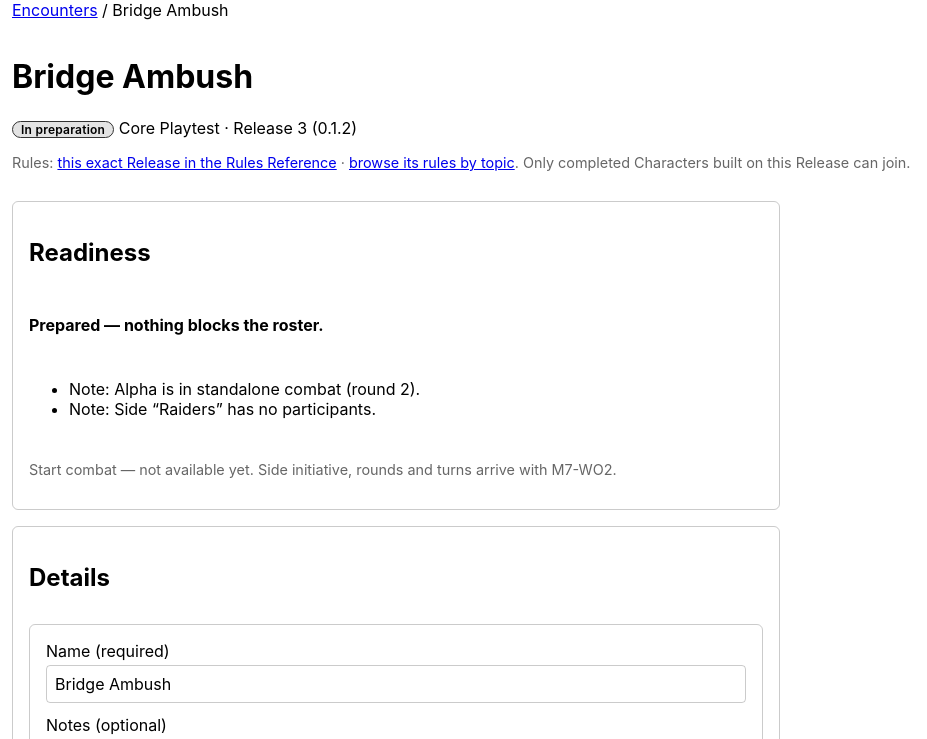
Test case: M7-WO1 encounter workspace › unsaved details are protected and saved as one UPDATE_METADATA command
expect the heading "Bridge Ambush" is shown: met, box top-left (12, 57), bottom-right (253, 96)
Replace the text in the field labelled "Name (required)" with "Bridge Ambush II" at (396,684), box top-left (46, 665), bottom-right (746, 703)
(page scrolled)
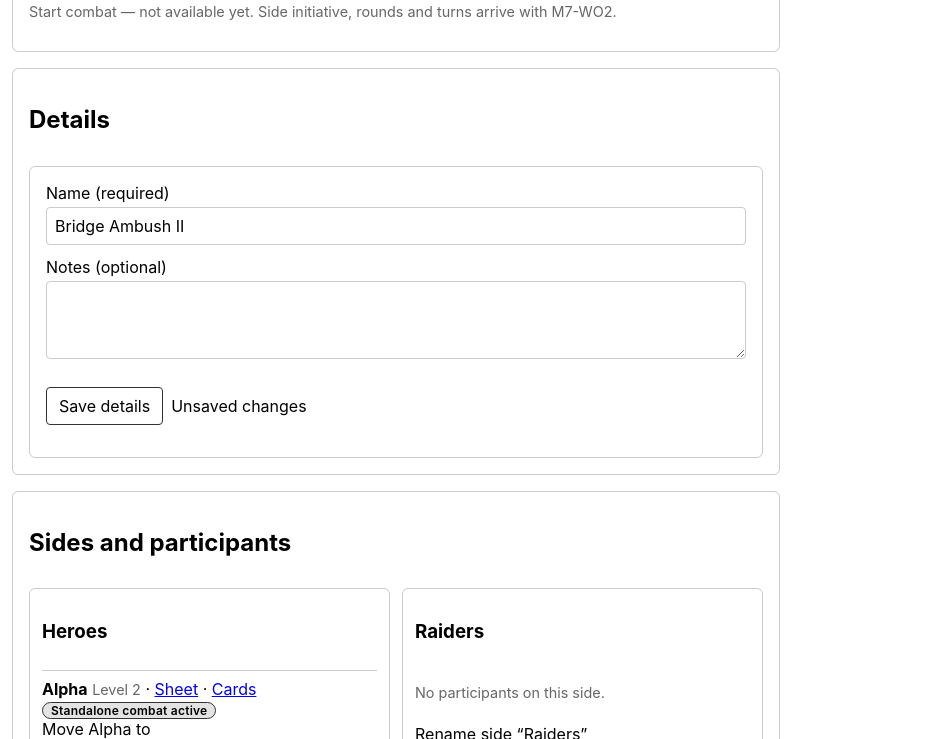
expect the text "Unsaved changes" is shown: met, box top-left (171, 396), bottom-right (307, 416)
Click the button "Save details" at (105,406), box top-left (46, 387), bottom-right (163, 425)
(page scrolled)
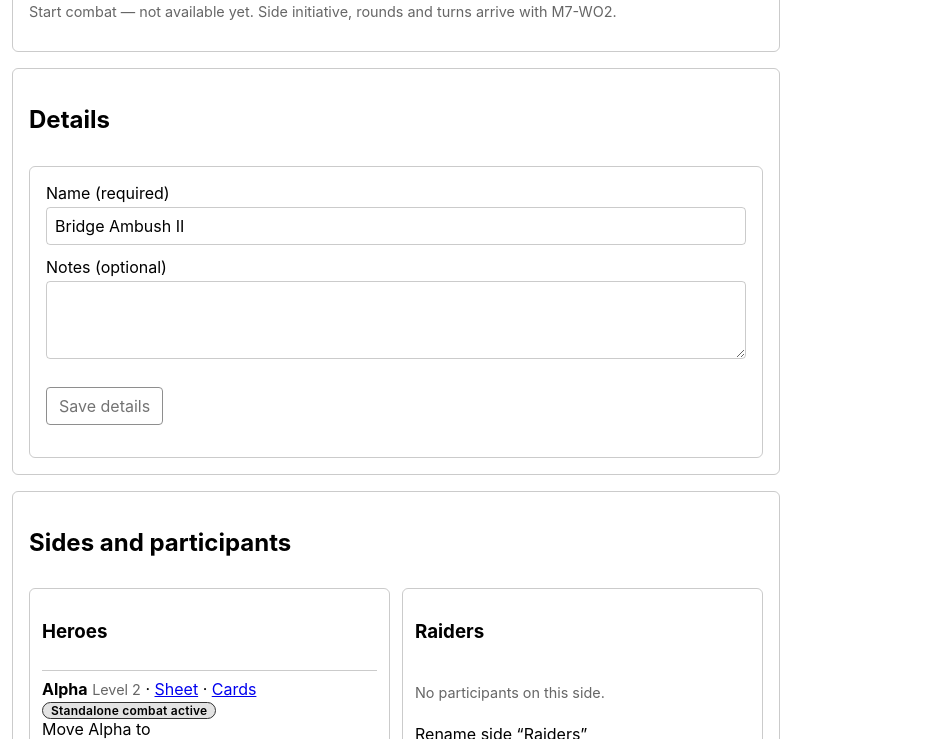
expect the text with test id "details-unsaved" is gone: met
